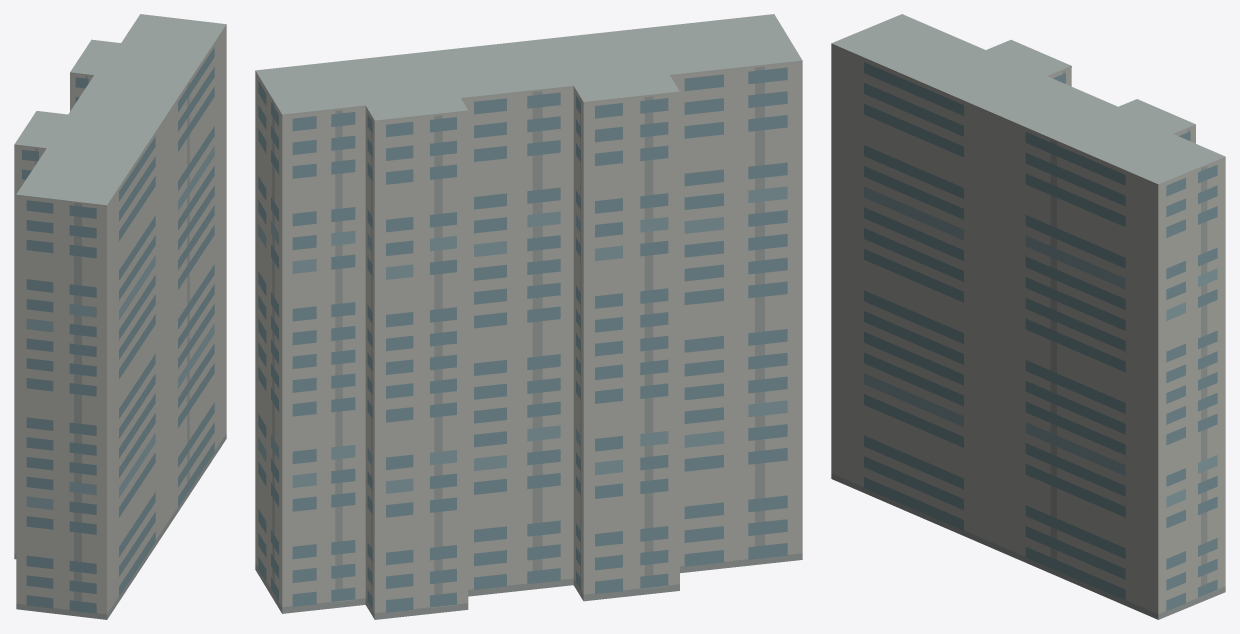
Rendered from residential-008f65ac-750e-49e2-a73f-9e2c7b4aeee3.glb.
3 views of the same model, side by side, from view 1: azimuth 30°, elevation 25°; view 2: azimuth 150°, elevation 25°; view 3: azimuth 270°, elevation 25° (orthographic). The views are drawn at different scales.
Parts seen in each view (by area): view 1: residential-008f65ac-750e-49e2-a73f-9e2c7b4aeee3.tmp; view 2: residential-008f65ac-750e-49e2-a73f-9e2c7b4aeee3.tmp; view 3: residential-008f65ac-750e-49e2-a73f-9e2c7b4aeee3.tmp.
Boxes of the visible parts, x1,y1,x2,y2 form: residential-008f65ac-750e-49e2-a73f-9e2c7b4aeee3.tmp: (14,14,226,619); residential-008f65ac-750e-49e2-a73f-9e2c7b4aeee3.tmp: (255,14,802,619); residential-008f65ac-750e-49e2-a73f-9e2c7b4aeee3.tmp: (831,14,1225,619).
Size of the model in its own units: 53.74 by 64.05 by 52.56.
